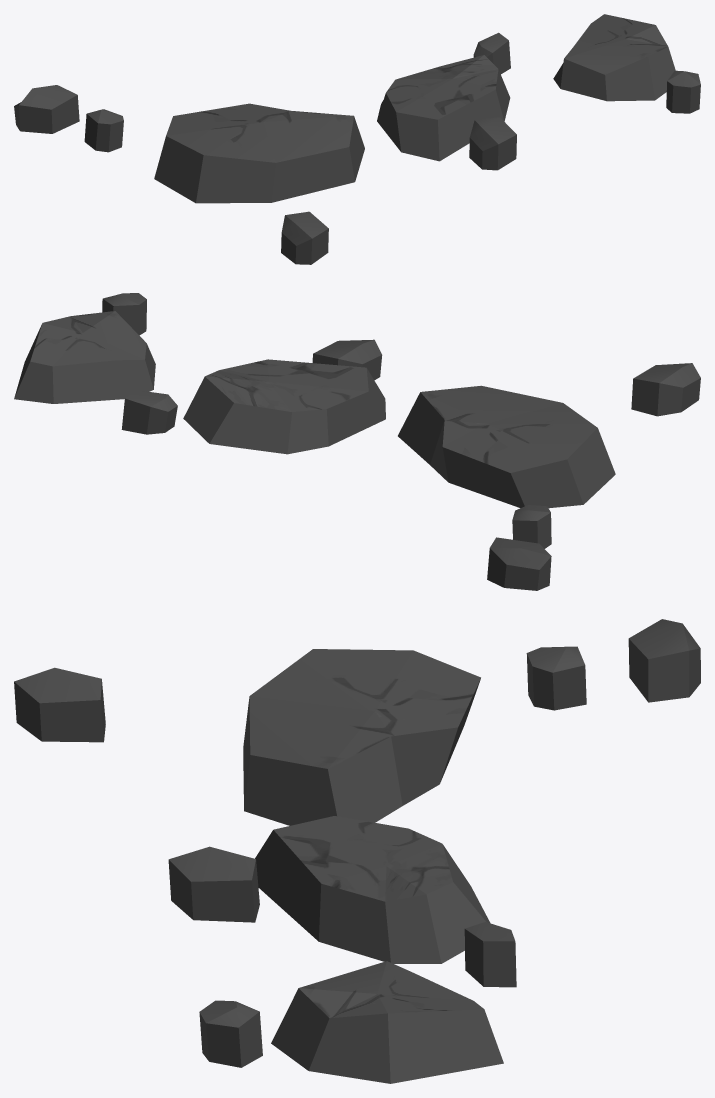
Rendered from SM_Env_City_Road_Rubble_01.fbx.
3 renders of one model, top to bottom at view 1: azimuth 30°, elevation 25°; view 2: azimuth 150°, elevation 25°; view 3: azimuth 270°, elevation 25°, orthographic. The views are drawn at different scales.
Visible parts, largest first — view 1: SM_Env_City_Road_Rubble_01; view 2: SM_Env_City_Road_Rubble_01; view 3: SM_Env_City_Road_Rubble_01.
Part boxes in pixels (x1,y1,x2,y2): SM_Env_City_Road_Rubble_01: (14,14,700,264); SM_Env_City_Road_Rubble_01: (14,293,700,590); SM_Env_City_Road_Rubble_01: (14,619,700,1083).
Bounding box in the file's own units: 4.18 × 0.2994 × 2.86.
